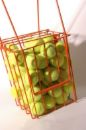tennis ball: (26, 38, 44, 56), (8, 49, 25, 66), (22, 69, 39, 85), (24, 53, 40, 69), (40, 43, 56, 58), (26, 87, 42, 102), (39, 35, 55, 50), (44, 66, 59, 81), (49, 52, 64, 67), (30, 101, 45, 116), (47, 82, 62, 97), (53, 88, 68, 103), (43, 94, 57, 109), (13, 64, 27, 78)
